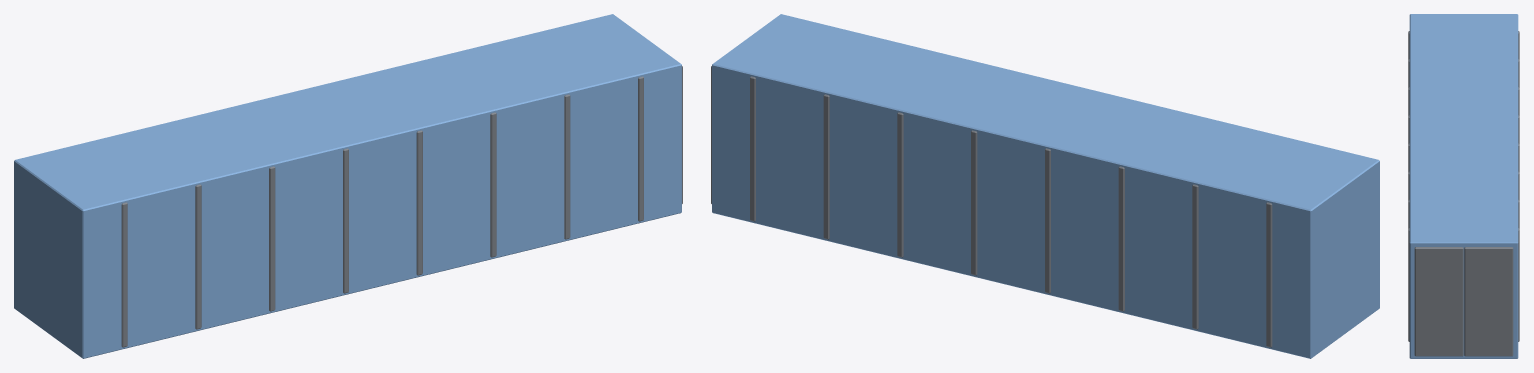
The model's file is 工业_集装箱_02.fbx.
The picture shows the model from 3 angles, left to right: view 1: azimuth 30°, elevation 25°; view 2: azimuth 150°, elevation 25°; view 3: azimuth 270°, elevation 25°; orthographic projection. The views are drawn at different scales.
Parts seen in each view (by area): view 1: 箱体.001, 波纹.001; view 2: 箱体.001, 波纹.001; view 3: 箱体.001, 箱门.001, 波纹.001.
Part boxes in pixels (box(x1,y1,x2,y2)): 箱体.001: box(14, 14, 681, 358); 波纹.001: box(121, 76, 643, 347); 箱体.001: box(712, 14, 1379, 358); 波纹.001: box(750, 76, 1272, 347); 箱体.001: box(1409, 14, 1518, 358); 箱门.001: box(1414, 247, 1513, 356); 波纹.001: box(1408, 31, 1519, 341).
Bounding box in the file's own units: 1228 × 290 × 250.
